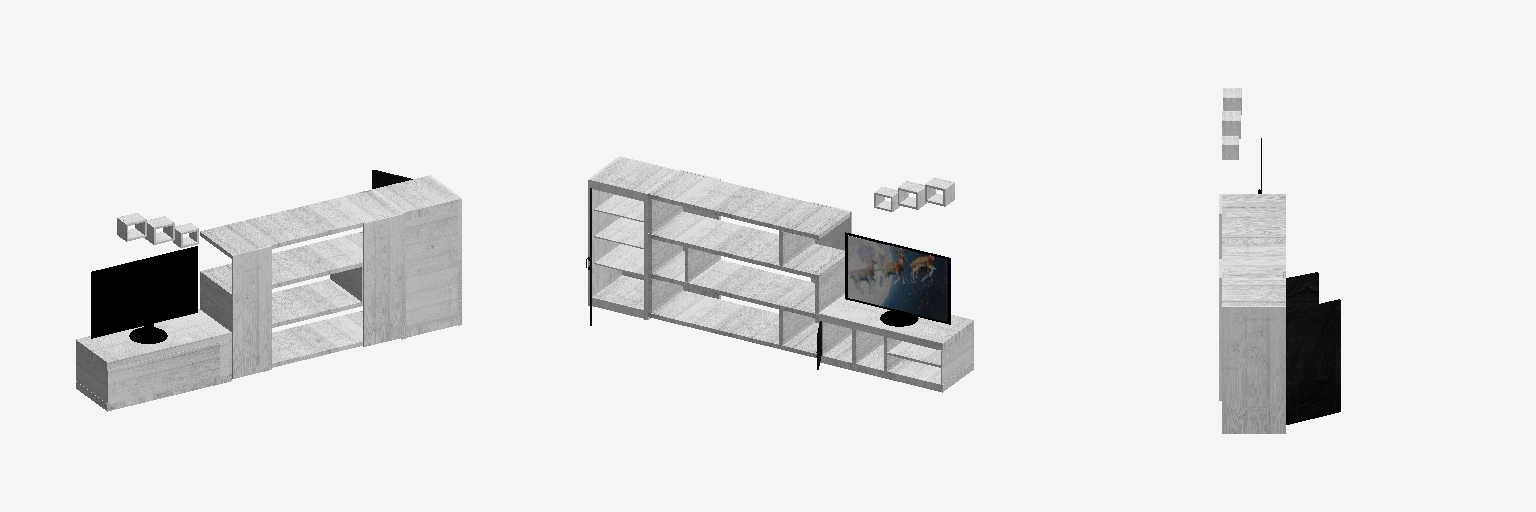
3 renders of one model, left to right at view 1: azimuth 30°, elevation 25°; view 2: azimuth 150°, elevation 25°; view 3: azimuth 270°, elevation 25°, orthographic.
Visible parts, largest first — view 1: furniture_xena:pomo_armario_grande1; view 2: furniture_xena:pomo_armario_grande1; view 3: furniture_xena:pomo_armario_grande1.
Boxes of the visible parts, x1=… form: furniture_xena:pomo_armario_grande1: x1=76, y1=170, x2=461, y2=411; furniture_xena:pomo_armario_grande1: x1=586, y1=156, x2=973, y2=392; furniture_xena:pomo_armario_grande1: x1=1219, y1=88, x2=1340, y2=433.
Bounding box in the file's own units: 1.66 × 0.8119 × 0.4897.
Materials: 4 (4 with a texture image).